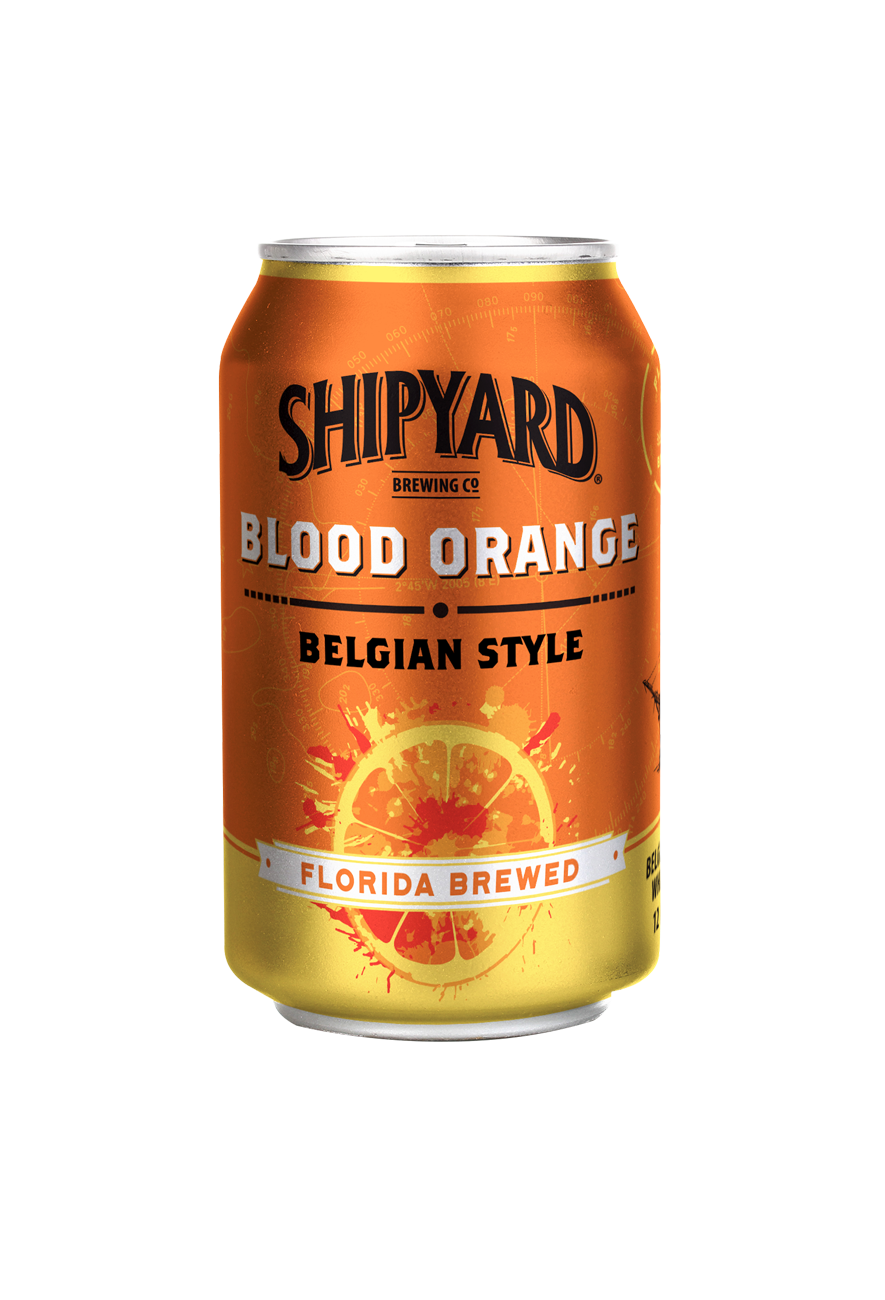beer can: (215, 229, 664, 1040)
